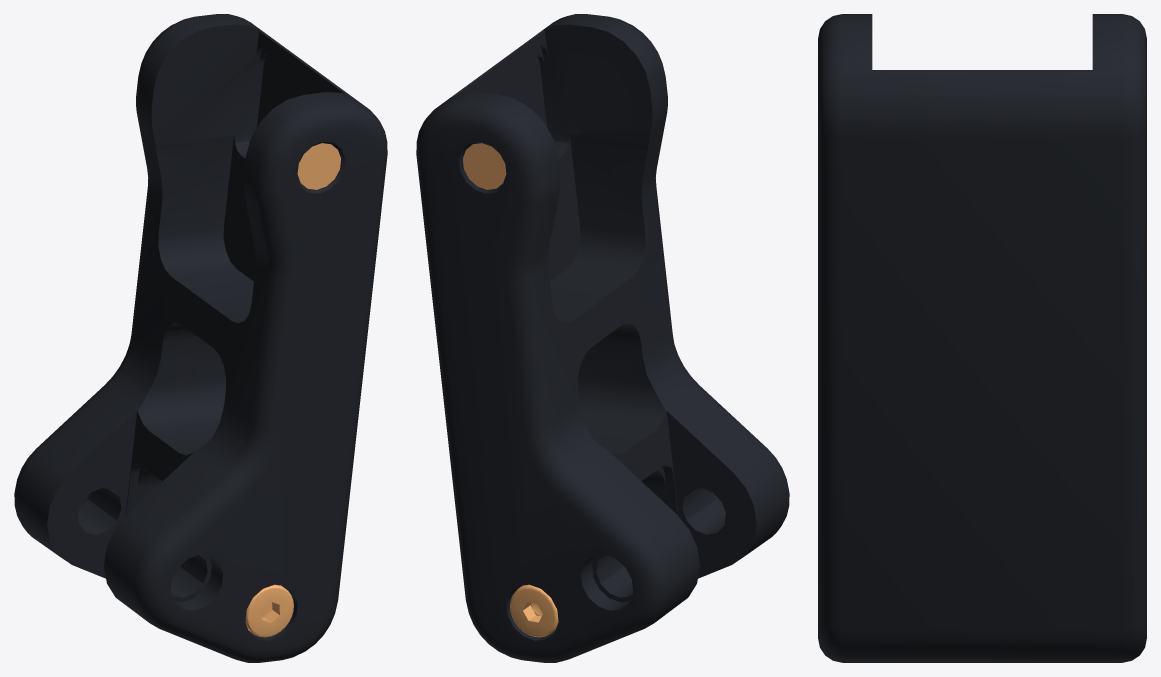
Rendered from left_finger.dae.
3 views of the same model, side by side, from view 1: azimuth 30°, elevation 25°; view 2: azimuth 150°, elevation 25°; view 3: azimuth 270°, elevation 25° (orthographic). The views are drawn at different scales.
Parts seen in each view (by area): view 1: left_finger; view 2: left_finger; view 3: left_finger.
Boxes of the visible parts, x1,y1,x2,y2 form: left_finger: (14, 14, 387, 662); left_finger: (416, 14, 789, 662); left_finger: (818, 14, 1146, 662).
Size of the model in its own units: 0.0286 by 0.0272 by 0.0594.
